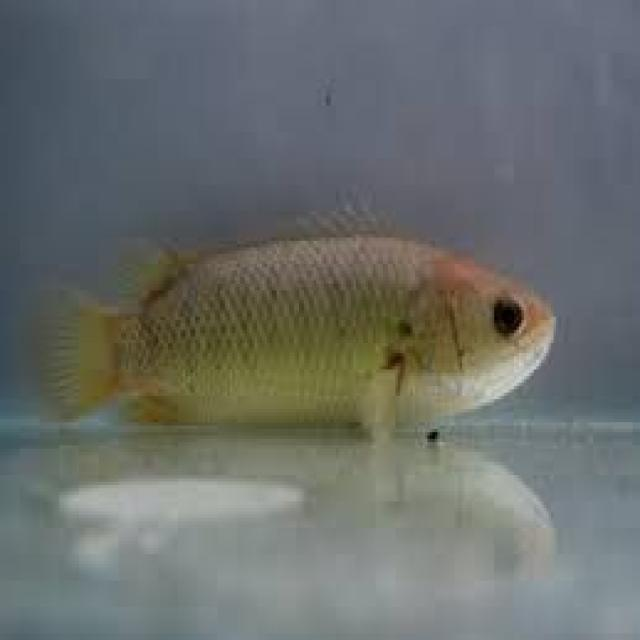Climbing-Perch: (24, 173, 600, 490)
